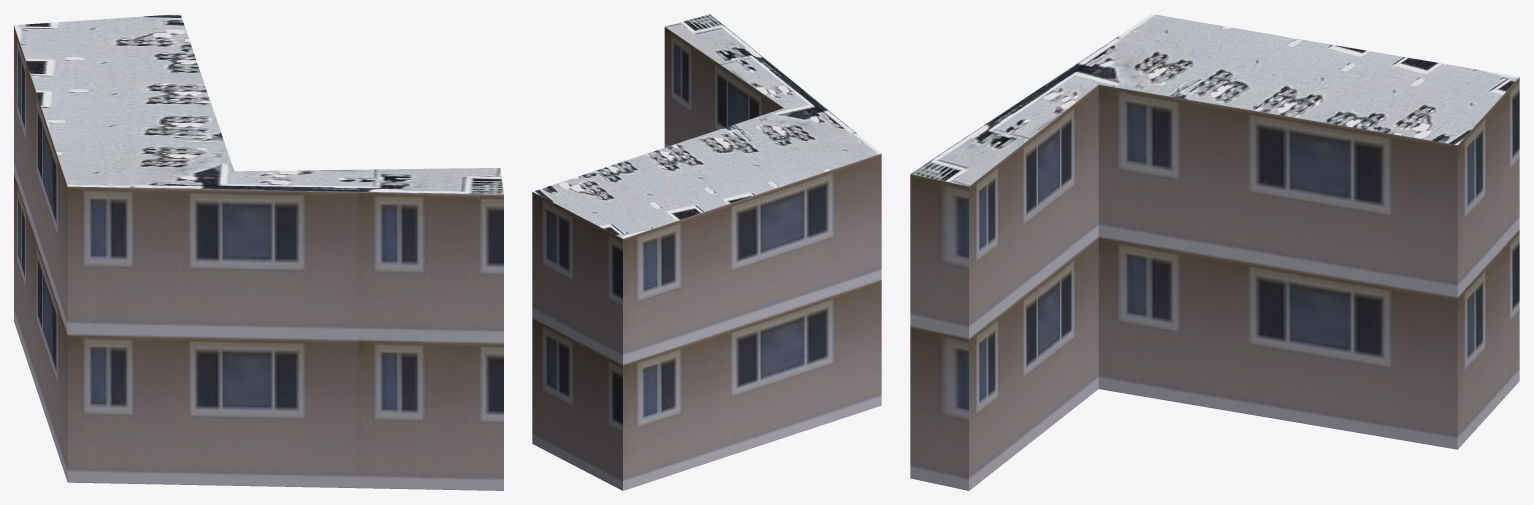
Rendered from ResTex__2601.fbx.
3 views of the same model, side by side, from view 1: azimuth 30°, elevation 25°; view 2: azimuth 150°, elevation 25°; view 3: azimuth 270°, elevation 25° (orthographic). The views are drawn at different scales.
Parts seen in each view (by area): view 1: CityEngineMaterial_21_m, CityEngineMaterial_m; view 2: CityEngineMaterial_21_m, CityEngineMaterial_m; view 3: CityEngineMaterial_21_m, CityEngineMaterial_m.
Part boxes in pixels (x1,y1,x2,y2): CityEngineMaterial_21_m: (14, 26, 503, 490); CityEngineMaterial_m: (14, 14, 503, 194); CityEngineMaterial_21_m: (532, 27, 881, 490); CityEngineMaterial_m: (533, 14, 881, 238); CityEngineMaterial_21_m: (910, 77, 1519, 490); CityEngineMaterial_m: (910, 14, 1519, 186).
Bounding box in the file's own units: 7.29 × 6 × 10.88.
Materials: 2 (2 with a texture image).
